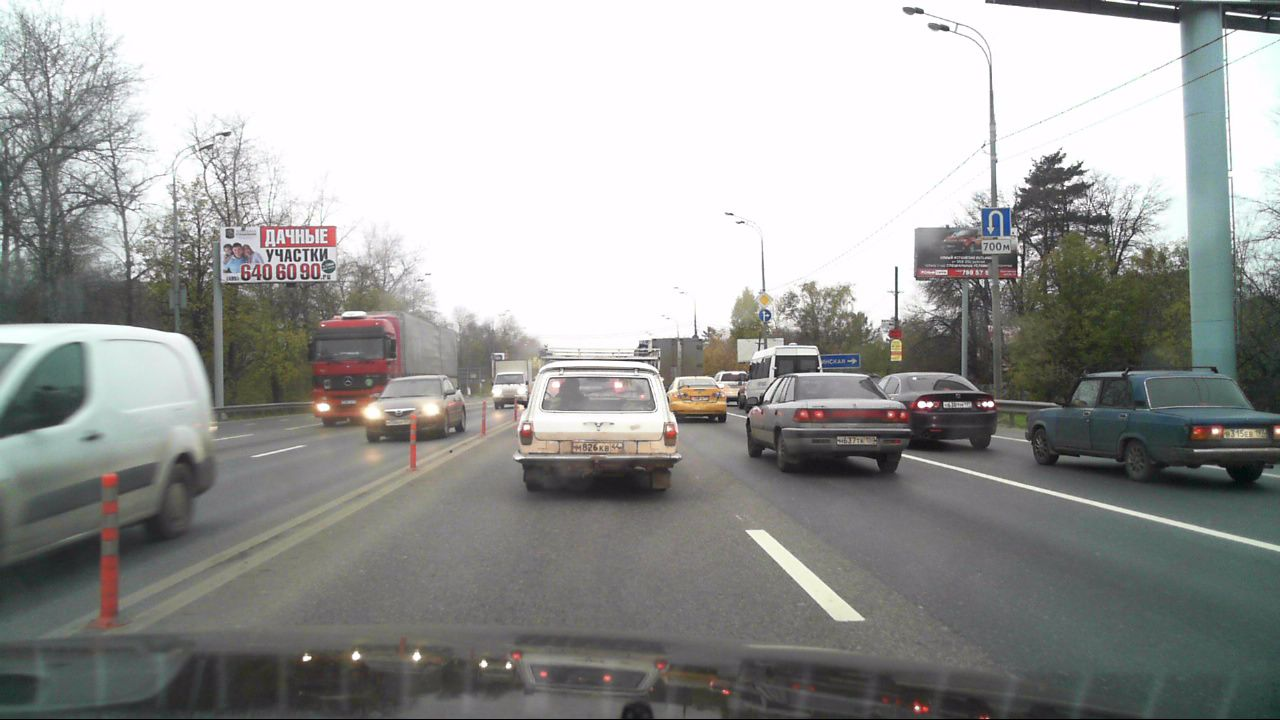U-turn: (982, 208, 1010, 237)
